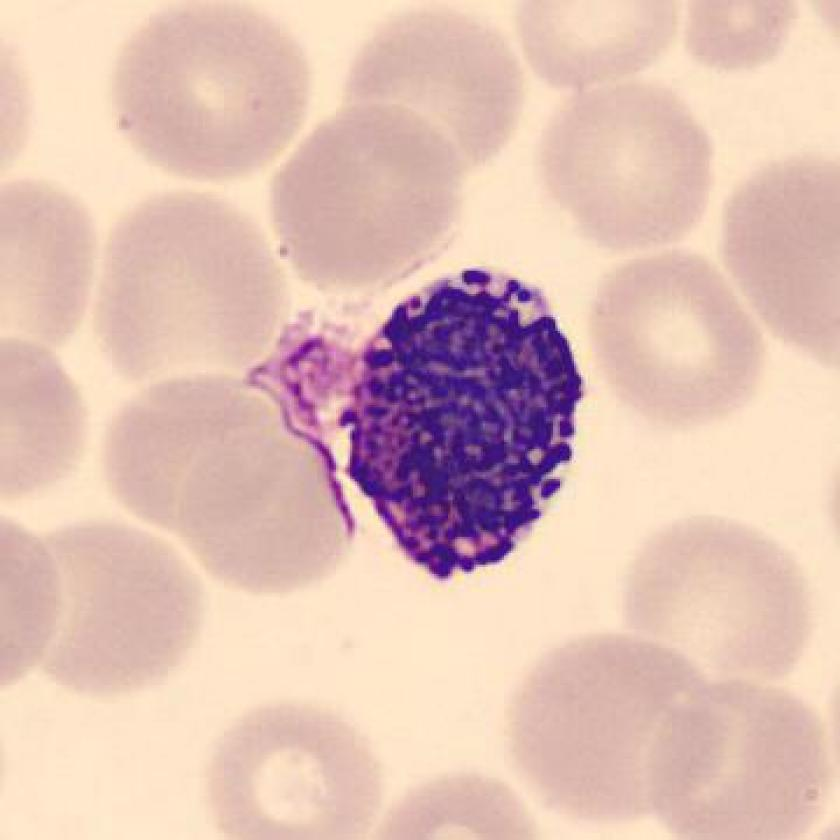basophil: (325, 253, 601, 589)
